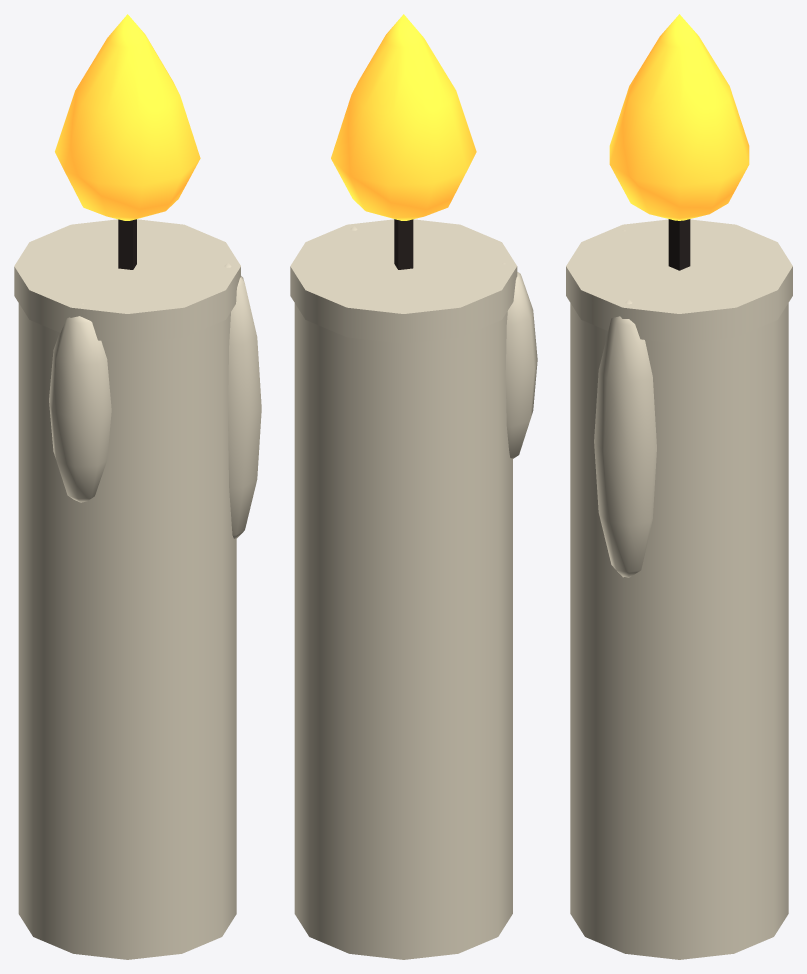
Rendered from magic_candle_float.glb.
3 views of the same model, side by side, from view 1: azimuth 30°, elevation 25°; view 2: azimuth 150°, elevation 25°; view 3: azimuth 270°, elevation 25° (orthographic).
Visible parts, largest first — view 1: magic_candle_float; view 2: magic_candle_float; view 3: magic_candle_float.
Part boxes in pixels (x1=…): magic_candle_float: x1=14, y1=14, x2=261, y2=959; magic_candle_float: x1=290, y1=14, x2=537, y2=959; magic_candle_float: x1=566, y1=14, x2=792, y2=959.
Bounding box in the file's own units: 0.0881 × 0.364 × 0.0832.
